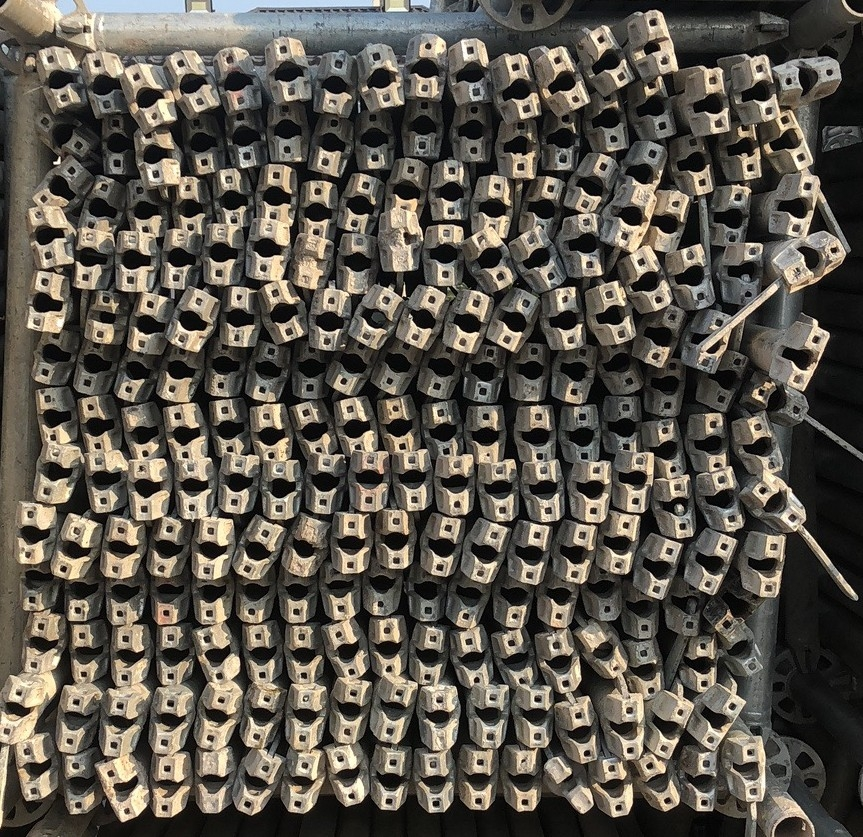NHsquare_steel: (543, 755, 595, 813), (286, 515, 327, 580), (191, 751, 231, 812)
THsquare_steel: (777, 230, 846, 291), (576, 22, 634, 93), (741, 472, 807, 534), (22, 154, 94, 210), (163, 48, 218, 120), (512, 227, 571, 293), (534, 46, 591, 114), (661, 244, 719, 310), (396, 283, 450, 353), (347, 285, 403, 352), (19, 205, 77, 269), (619, 247, 676, 312), (726, 56, 782, 122), (116, 63, 171, 130), (679, 67, 734, 134), (208, 44, 262, 112), (492, 49, 542, 121), (626, 12, 681, 77), (166, 288, 219, 355), (783, 320, 831, 393), (130, 124, 182, 191), (76, 48, 125, 118), (466, 230, 520, 293), (356, 41, 406, 109), (445, 289, 495, 357), (587, 282, 639, 347), (28, 109, 94, 160), (204, 168, 260, 228), (48, 513, 96, 583), (770, 54, 843, 100), (258, 281, 310, 344), (536, 289, 588, 352), (264, 34, 311, 103), (34, 42, 80, 112), (73, 174, 124, 237), (397, 97, 447, 161), (568, 149, 618, 213), (306, 113, 355, 178), (683, 310, 732, 375), (695, 471, 747, 532), (252, 161, 303, 223), (609, 187, 656, 254), (668, 132, 716, 197), (773, 175, 821, 240), (93, 758, 141, 823), (319, 747, 371, 807), (490, 292, 541, 353), (417, 398, 468, 459), (519, 460, 569, 522), (495, 117, 542, 182), (425, 158, 472, 223), (334, 173, 384, 234), (641, 305, 690, 367), (314, 49, 358, 118), (421, 223, 467, 289), (577, 620, 629, 678), (722, 237, 765, 307), (70, 226, 116, 291), (721, 734, 767, 799), (490, 626, 539, 687), (236, 520, 284, 582), (220, 107, 267, 170), (739, 411, 786, 474), (535, 629, 582, 692), (538, 112, 584, 176), (475, 461, 523, 522), (770, 110, 815, 175), (111, 229, 156, 294), (718, 122, 765, 184), (82, 452, 129, 514), (555, 701, 602, 763), (746, 381, 809, 427), (564, 214, 609, 278), (391, 448, 436, 512), (450, 105, 497, 166), (449, 40, 493, 105), (247, 217, 291, 282), (217, 284, 261, 349), (265, 103, 311, 165), (520, 175, 566, 237), (432, 453, 478, 515), (446, 624, 492, 686), (331, 395, 381, 452), (161, 402, 210, 460), (292, 177, 339, 237), (694, 690, 741, 750), (636, 79, 680, 143), (72, 396, 122, 452), (201, 222, 244, 287), (706, 583, 763, 632), (370, 342, 422, 395), (472, 175, 515, 239), (691, 532, 734, 596), (416, 684, 459, 748), (742, 532, 783, 599), (28, 446, 76, 503), (126, 177, 170, 239), (246, 340, 290, 402), (351, 450, 395, 512), (247, 405, 294, 463), (649, 189, 689, 257), (311, 290, 354, 353), (301, 452, 344, 515), (217, 453, 260, 516), (466, 399, 507, 465), (606, 695, 647, 761), (589, 97, 634, 157), (286, 402, 336, 456), (321, 622, 369, 678), (181, 114, 225, 175), (635, 754, 681, 812), (356, 110, 399, 172), (172, 457, 215, 519), (508, 521, 549, 586), (1, 675, 38, 747), (379, 395, 424, 454), (688, 412, 733, 471), (191, 629, 241, 682), (126, 296, 170, 356), (374, 679, 414, 745), (407, 31, 444, 102), (170, 175, 213, 236), (639, 539, 682, 600), (571, 459, 610, 526), (29, 386, 74, 444), (336, 232, 376, 297), (458, 747, 498, 812), (118, 407, 167, 460), (206, 398, 250, 457), (465, 522, 506, 585), (645, 420, 688, 480), (373, 509, 415, 570), (23, 272, 64, 334), (234, 750, 275, 812), (517, 400, 556, 465), (125, 457, 167, 517), (423, 514, 463, 577), (554, 525, 596, 585), (63, 623, 105, 683), (196, 686, 236, 749), (329, 678, 366, 746), (602, 393, 643, 454), (261, 457, 302, 518), (160, 227, 199, 291), (624, 639, 667, 697), (596, 341, 642, 395), (281, 752, 321, 814), (713, 182, 750, 249), (148, 687, 185, 754), (280, 623, 322, 682), (21, 609, 60, 672), (12, 741, 51, 804), (82, 290, 125, 347), (592, 759, 635, 816), (651, 694, 691, 755), (33, 332, 78, 386), (387, 157, 431, 212), (156, 347, 200, 402), (203, 342, 247, 397), (563, 402, 604, 461), (15, 502, 54, 564), (56, 684, 91, 753), (371, 747, 408, 812), (331, 512, 371, 572), (471, 687, 511, 747), (618, 450, 656, 513), (331, 342, 376, 395), (101, 517, 140, 578), (510, 345, 551, 403), (410, 620, 446, 686), (555, 347, 598, 402), (148, 755, 186, 817), (243, 687, 282, 747), (286, 687, 322, 752), (101, 112, 136, 178), (622, 141, 671, 188), (242, 626, 283, 682), (111, 625, 148, 687), (706, 352, 746, 409), (152, 627, 191, 685), (76, 341, 116, 397), (289, 346, 331, 399), (99, 690, 132, 757), (60, 751, 95, 814), (418, 751, 453, 814), (467, 347, 507, 402), (371, 614, 406, 676), (651, 357, 687, 417), (424, 345, 465, 397), (518, 684, 551, 748), (117, 349, 156, 403), (151, 517, 186, 577), (602, 516, 637, 576), (193, 518, 226, 581), (144, 579, 189, 625), (186, 583, 235, 625), (682, 751, 716, 811), (316, 577, 361, 622), (102, 579, 146, 625), (682, 632, 716, 691), (509, 747, 539, 812), (276, 576, 316, 624), (534, 584, 577, 627), (581, 581, 626, 621), (494, 585, 536, 627), (446, 584, 486, 627), (17, 566, 54, 612), (362, 573, 403, 614), (723, 636, 764, 677), (234, 581, 273, 624), (407, 581, 447, 622), (623, 599, 661, 640), (61, 580, 100, 619)
THsquare_steel_blocked: (656, 477, 696, 539)
